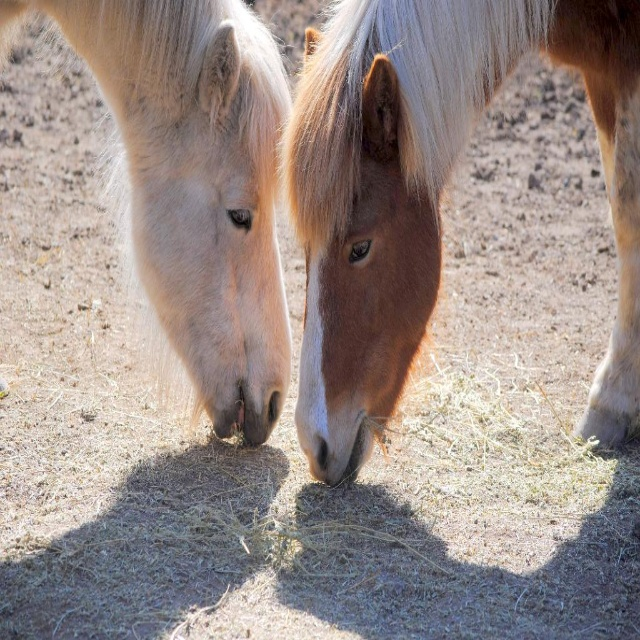Horse: (276, 0, 640, 489), (0, 0, 296, 443)
